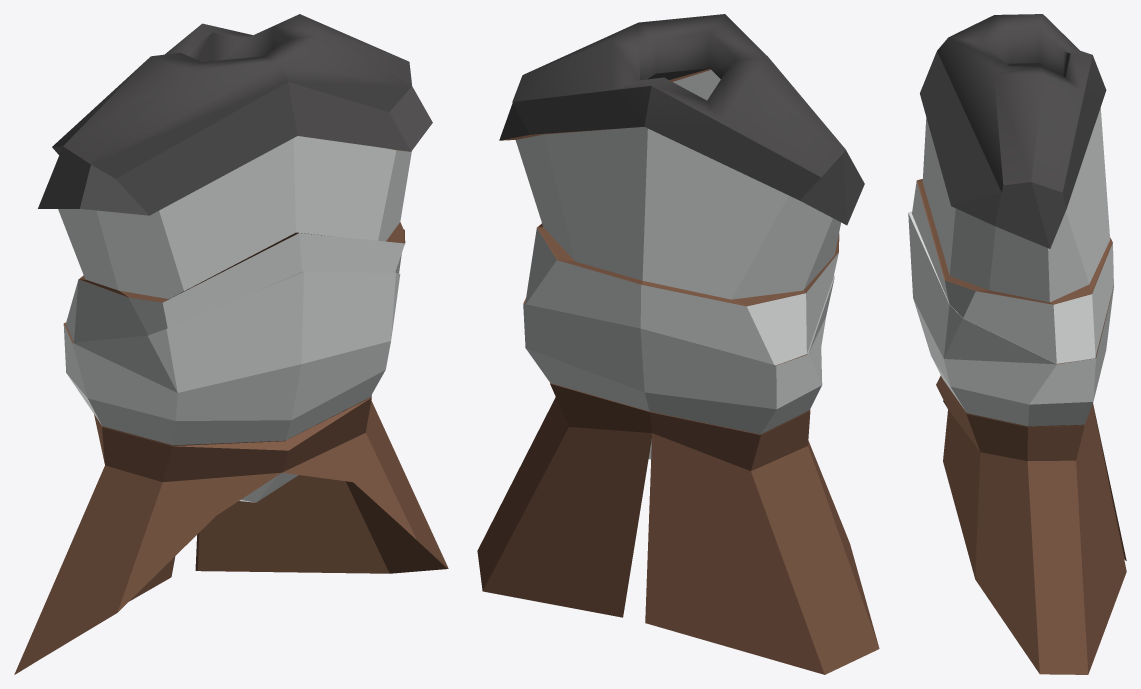
The model's file is ironArmor.fbx.
The picture shows the model from 3 angles, left to right: view 1: azimuth 30°, elevation 25°; view 2: azimuth 150°, elevation 25°; view 3: azimuth 270°, elevation 25°; orthographic projection. The views are drawn at different scales.
Parts seen in each view (by area): view 1: Body; view 2: Body; view 3: Body.
Boxes of the visible parts, bbox=[...] form: Body: bbox=[14, 14, 448, 674]; Body: bbox=[477, 14, 879, 674]; Body: bbox=[908, 14, 1126, 674].
Size of the model in its own units: 518 by 697 by 248.
